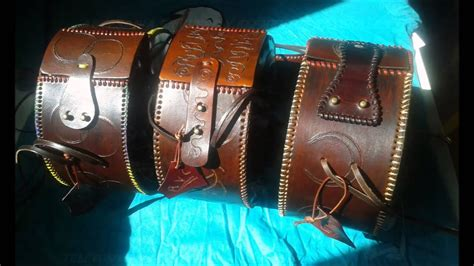cuero: (31, 20, 414, 238)
